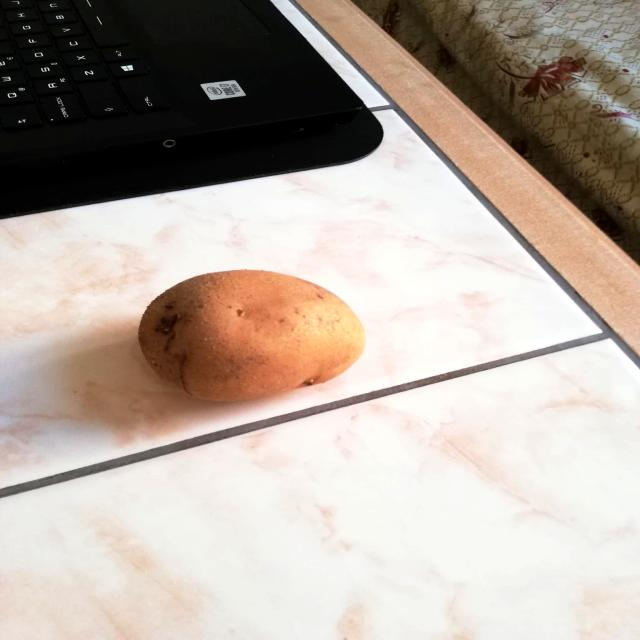potato: (132, 260, 372, 410)
